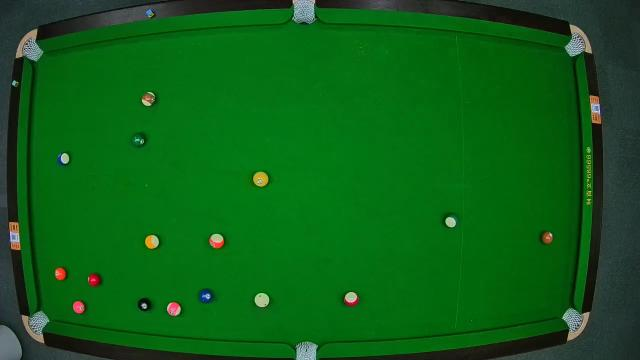bag1: (22, 40, 42, 61)
bag2: (292, 3, 316, 23)
bag3: (566, 32, 588, 55)
bag4: (26, 310, 48, 334)
bag5: (295, 340, 319, 360)
bag6: (564, 308, 584, 332)
ball0: (253, 292, 270, 308)
ball1: (253, 171, 270, 187)
ball10: (56, 152, 72, 166)
ball11: (343, 290, 359, 308)
ball12: (166, 302, 182, 318)
ball13: (207, 233, 225, 249)
ball14: (443, 213, 459, 229)
ball15: (140, 90, 156, 106)
ball2: (199, 288, 213, 304)
ball3: (88, 273, 100, 287)
ball4: (72, 299, 86, 313)
ball5: (53, 267, 67, 282)
ball6: (130, 132, 146, 148)
ball7: (538, 230, 554, 246)
ball8: (136, 296, 152, 312)
ball9: (144, 234, 160, 250)
